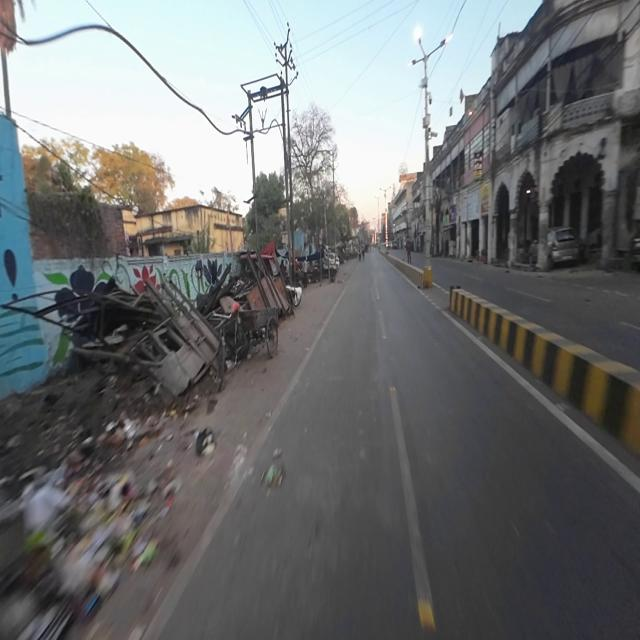Garbage: (6, 397, 156, 621)
